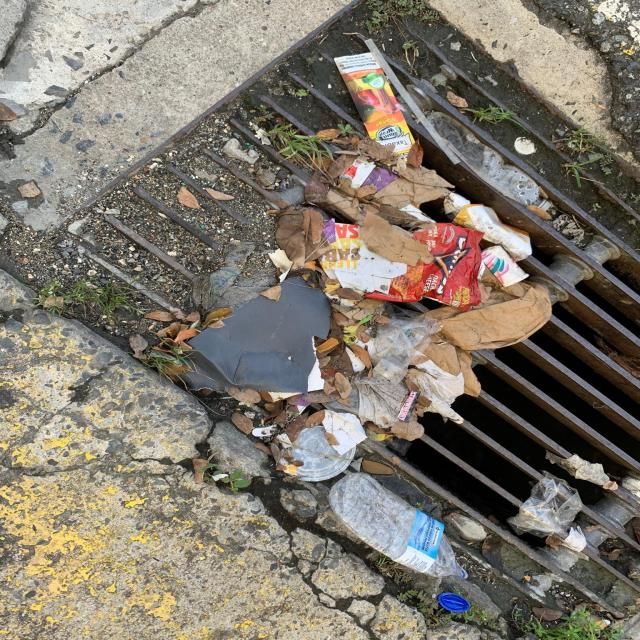litter: (186, 278, 333, 392), (327, 473, 465, 578), (414, 285, 550, 390), (317, 221, 481, 308), (418, 113, 550, 208), (335, 53, 421, 164), (360, 282, 411, 425), (508, 474, 582, 532), (280, 425, 351, 482), (374, 315, 433, 382), (405, 362, 468, 424), (440, 595, 470, 611), (511, 137, 534, 154)
